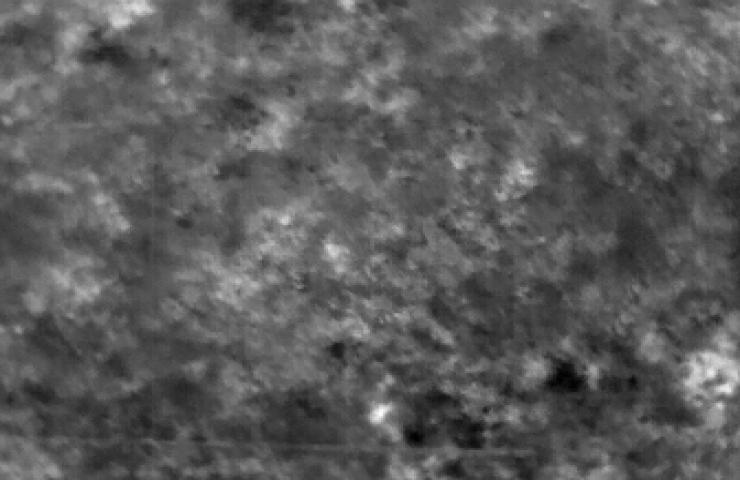landmines: (322, 239, 352, 267)
